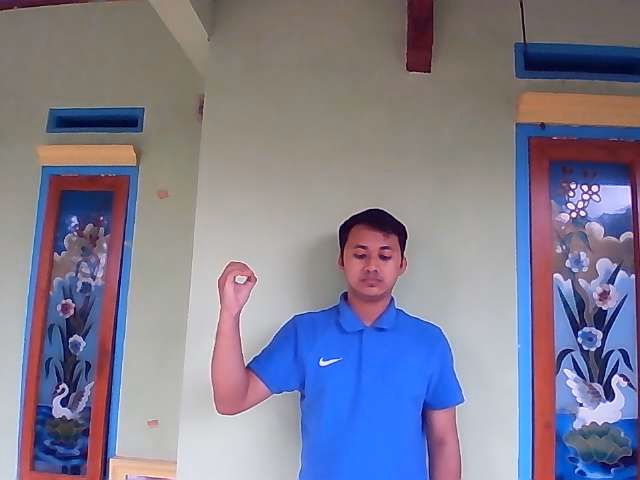O: (217, 260, 258, 311)
